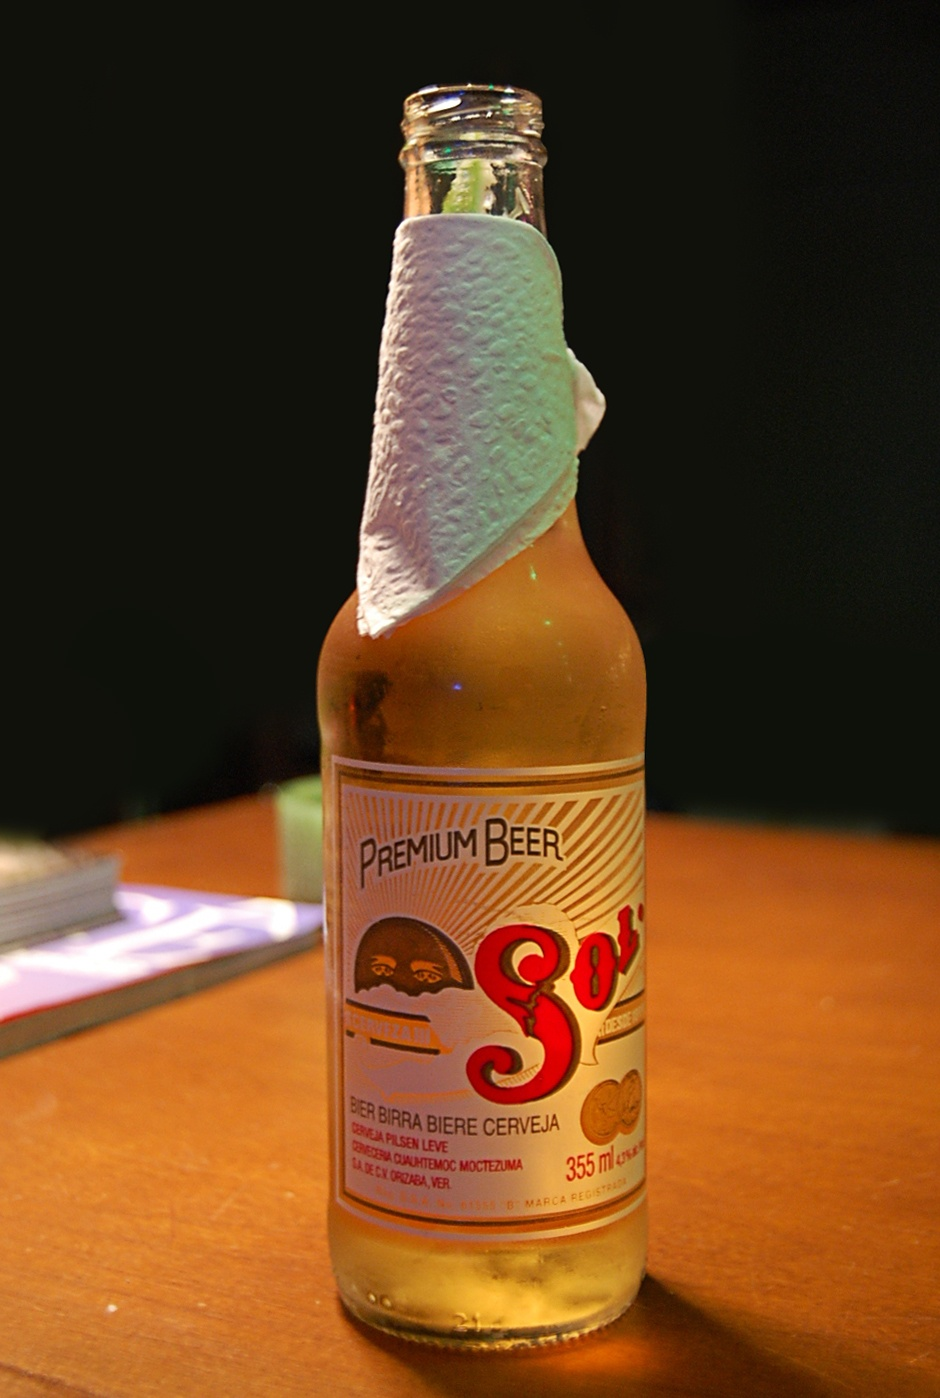beerBottle: (322, 93, 658, 1335)
